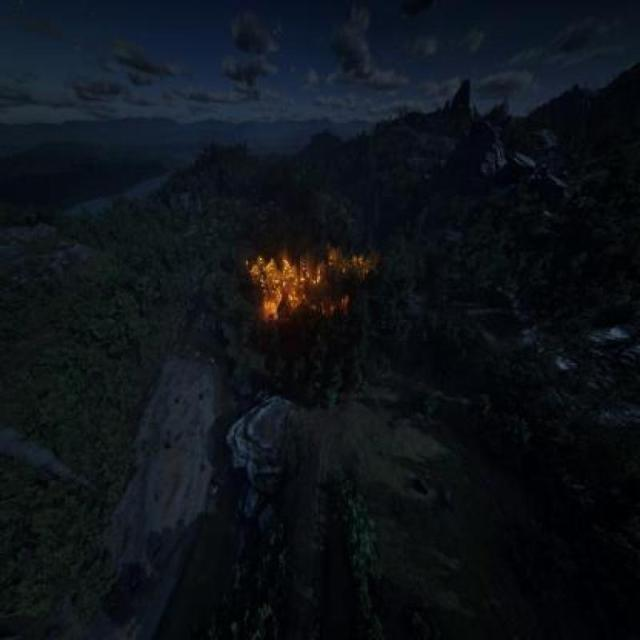Fire: (236, 229, 358, 314)
